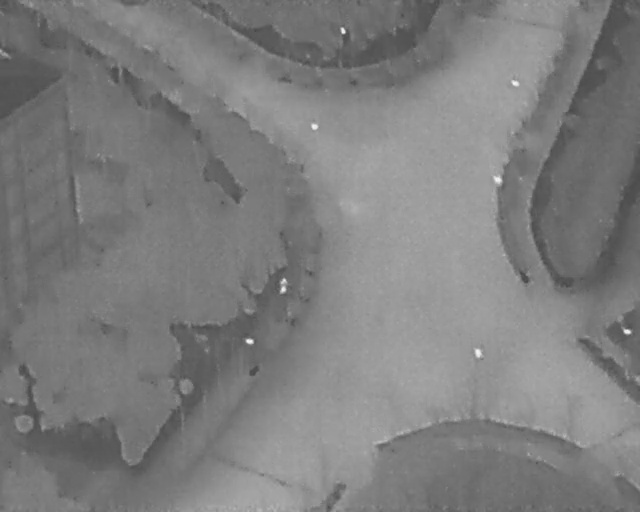Person: (279, 277, 289, 296)
